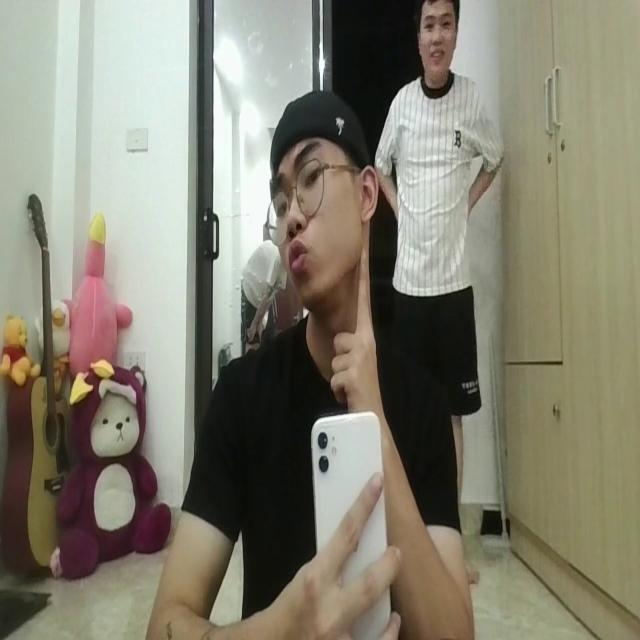extra_person: (380, 0, 498, 423)
phone: (306, 398, 392, 639)
student: (144, 83, 472, 640)
